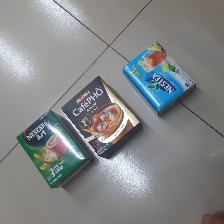CF pho: (60, 75, 142, 158)
Nes Rang: (16, 109, 93, 190)
Nestea: (120, 40, 196, 116)
